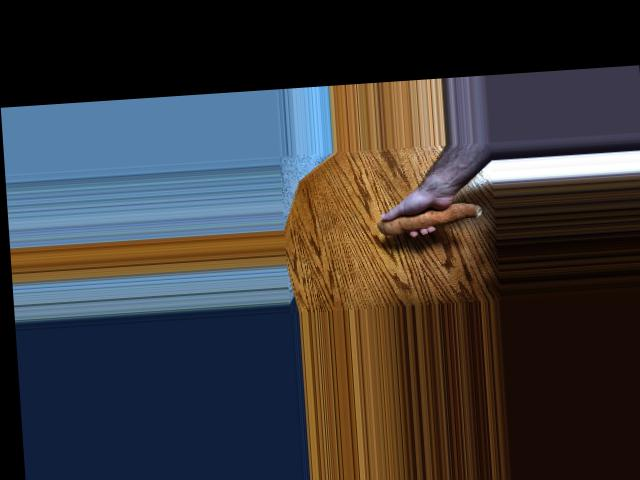sweet_potato: (378, 198, 482, 240)
